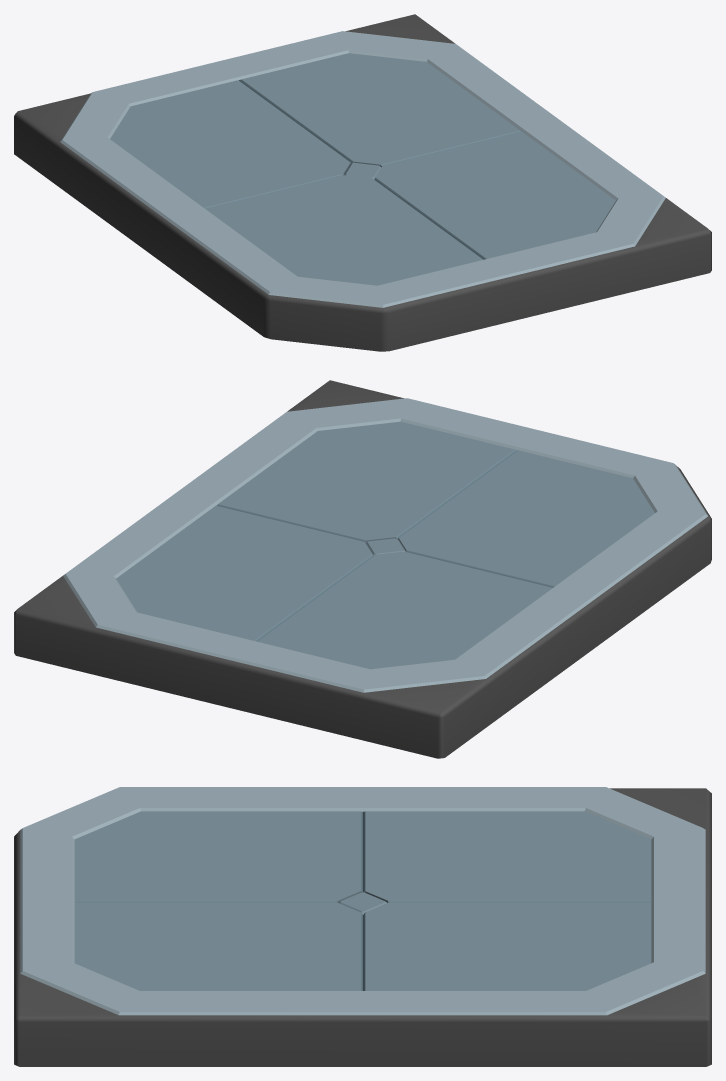
Rendered from platform_005.fbx.
3 views of the same model, one above another, from view 1: azimuth 30°, elevation 25°; view 2: azimuth 150°, elevation 25°; view 3: azimuth 270°, elevation 25° (orthographic). The views are drawn at different scales.
Parts seen in each view (by area): view 1: platform_005; view 2: platform_005; view 3: platform_005.
Boxes of the visible parts, left/top/right/bottom form: platform_005: left=14, top=14, right=711, bottom=351; platform_005: left=14, top=380, right=711, bottom=758; platform_005: left=14, top=787, right=711, bottom=1066.
Bounding box in the file's own units: 1000 × 1276 × 105.
